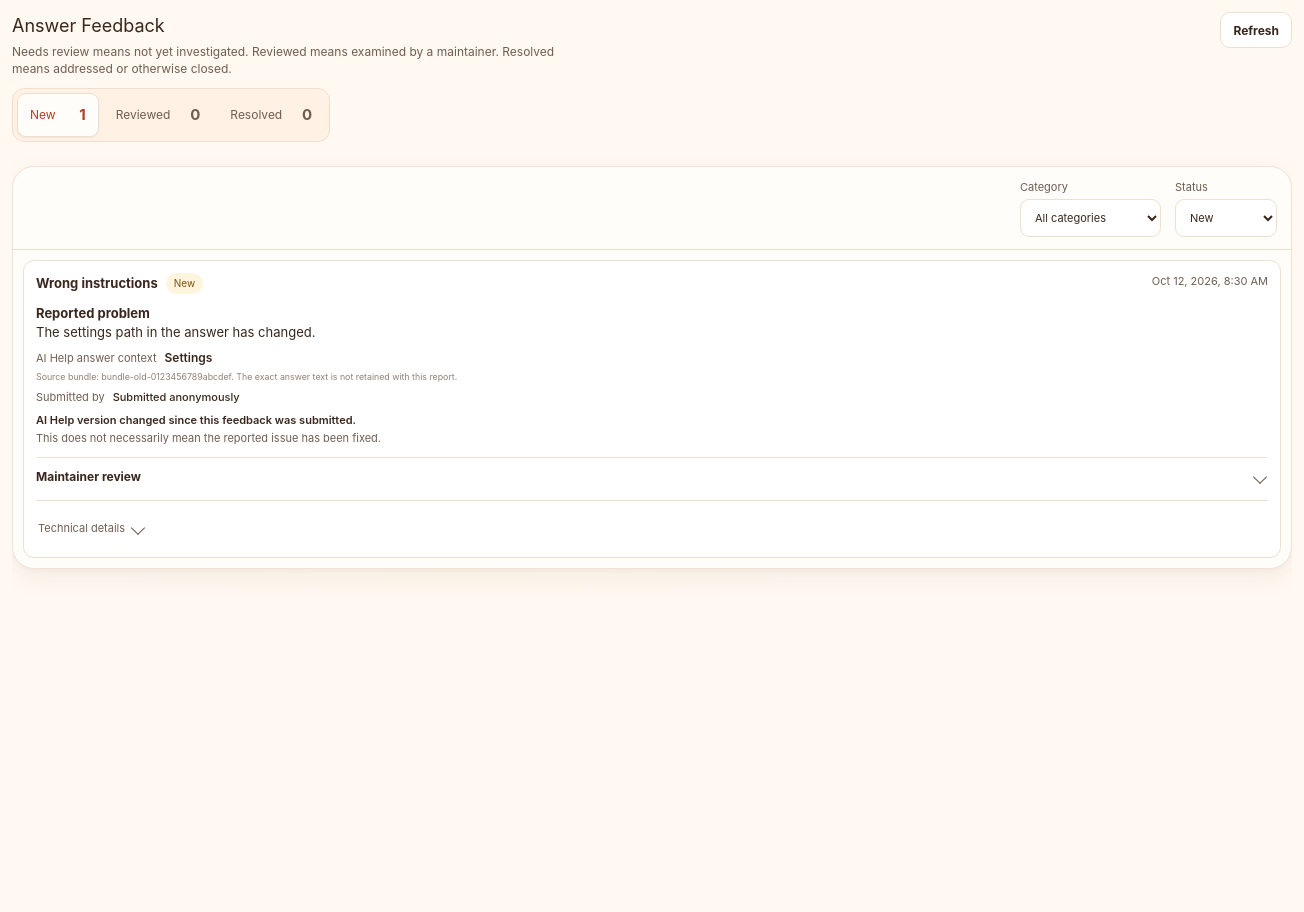
Test: AnswerFeedbackWorkspace › persists No knowledge change needed independently from the review status
Click the heading "Maintainer review" at (88, 476), box [36, 469, 141, 484]
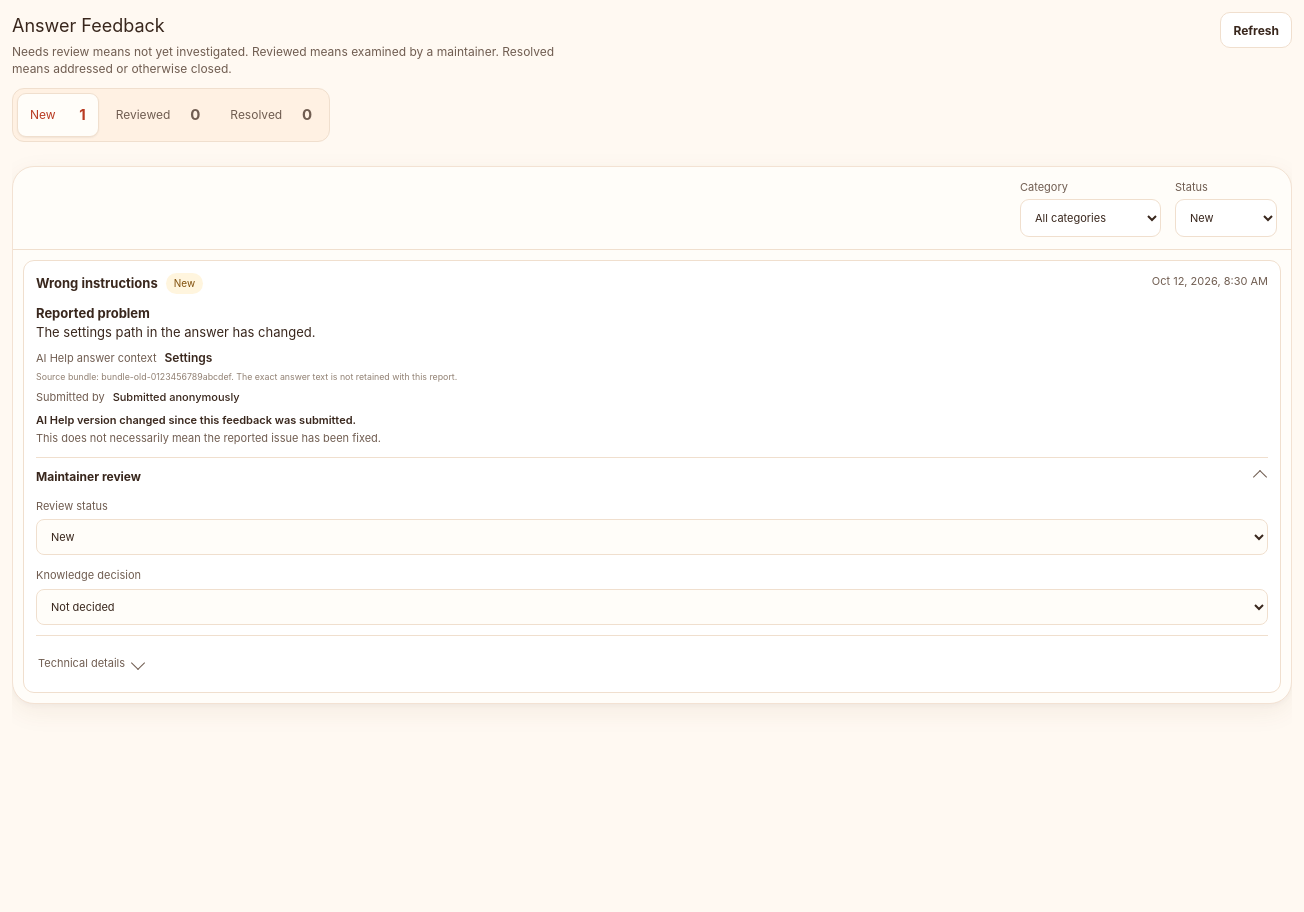
Select "No knowledge change needed" in the dropdown labelled "Knowledge decision" at (652, 607), box [36, 589, 1268, 625]
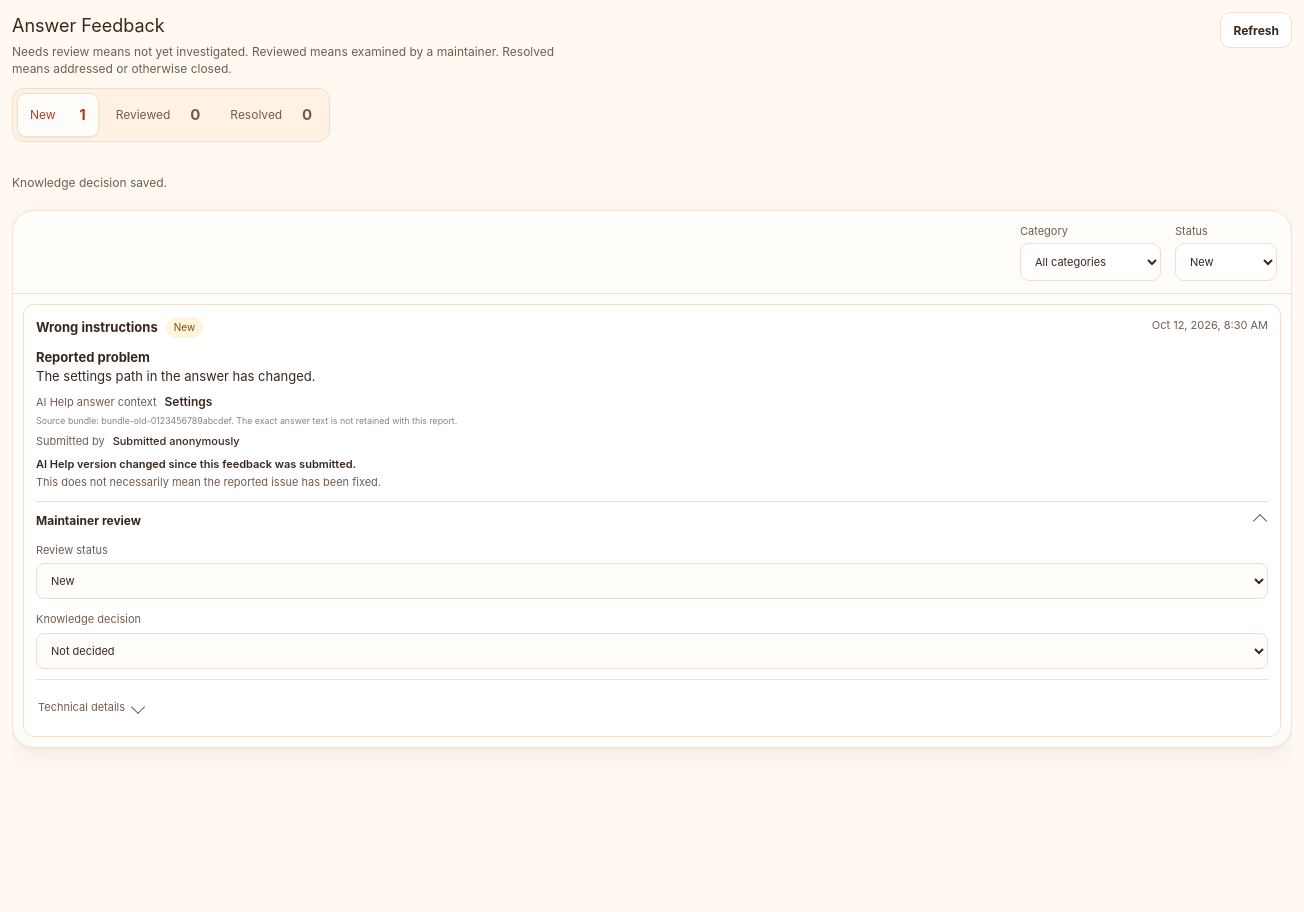
Expected: the message shows "Knowledge decision saved", [12, 175, 167, 190]
